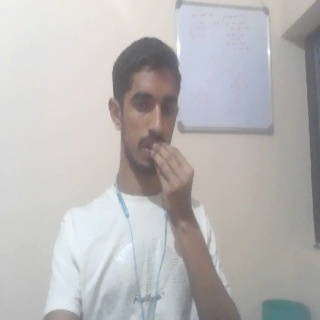Food: (149, 140, 198, 235)
